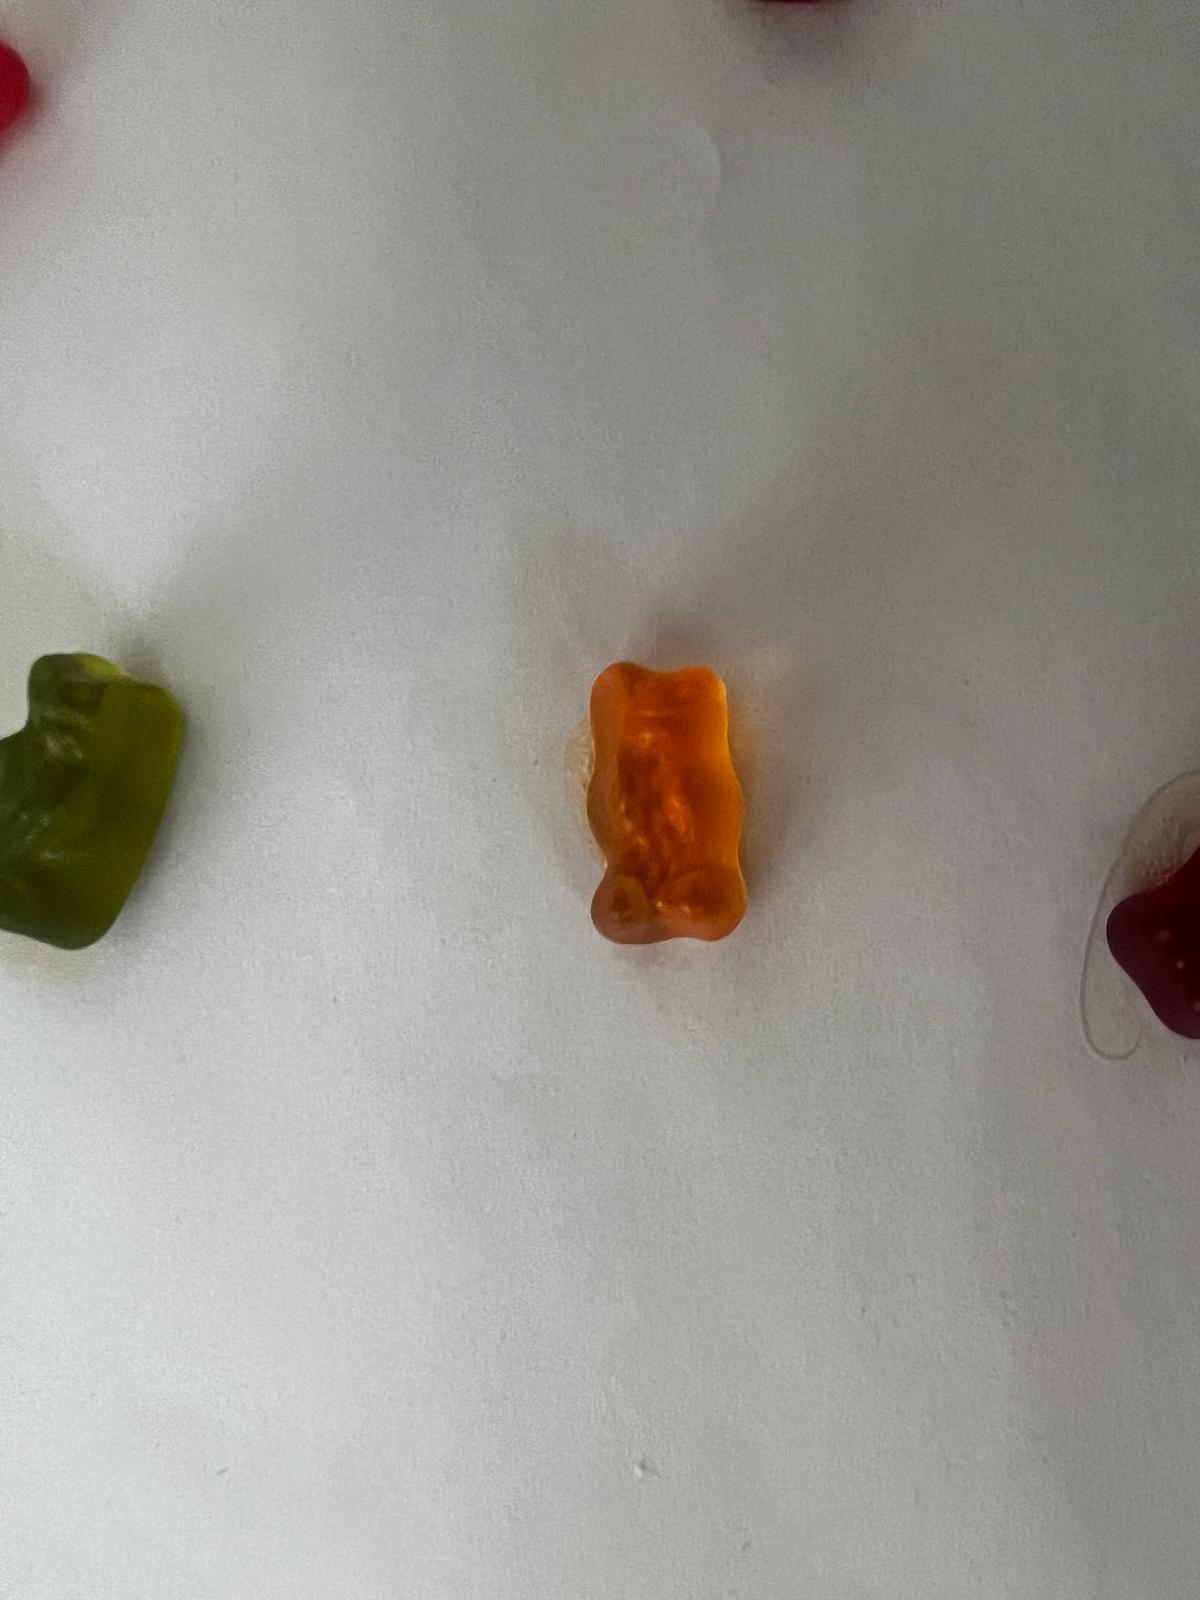gummybear: (579, 641, 759, 959)
